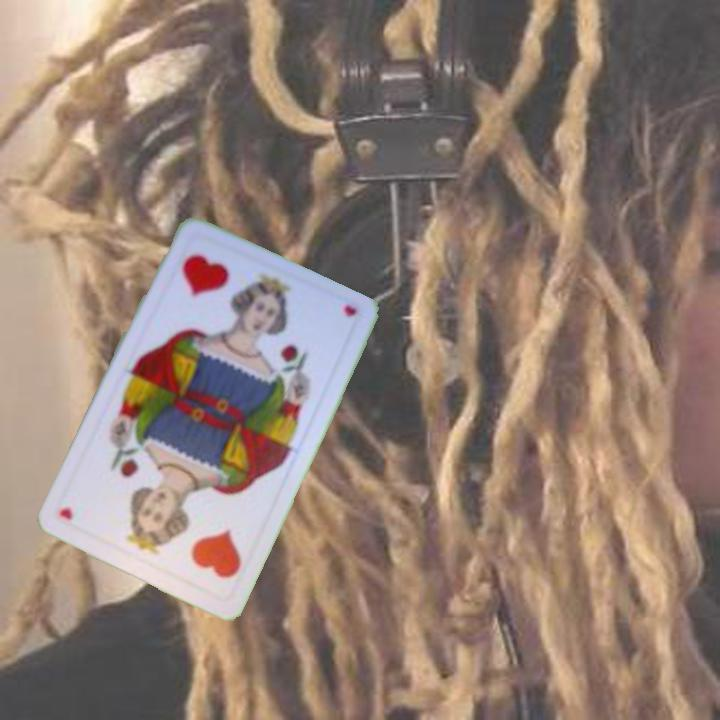h_q.png: (153, 231, 278, 350), (138, 485, 263, 603)
